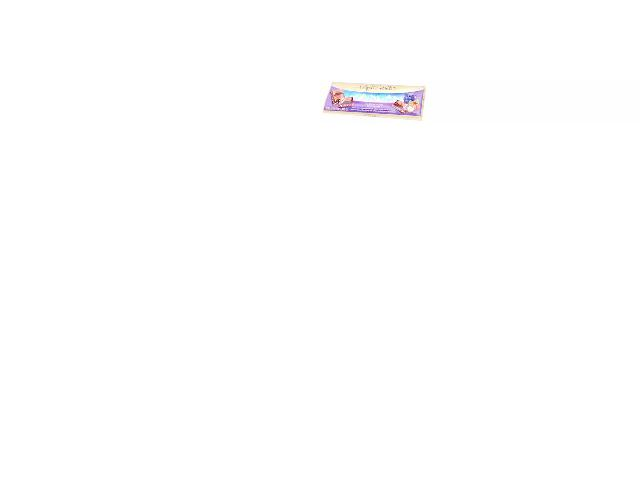chocolate: (318, 86, 425, 121)
